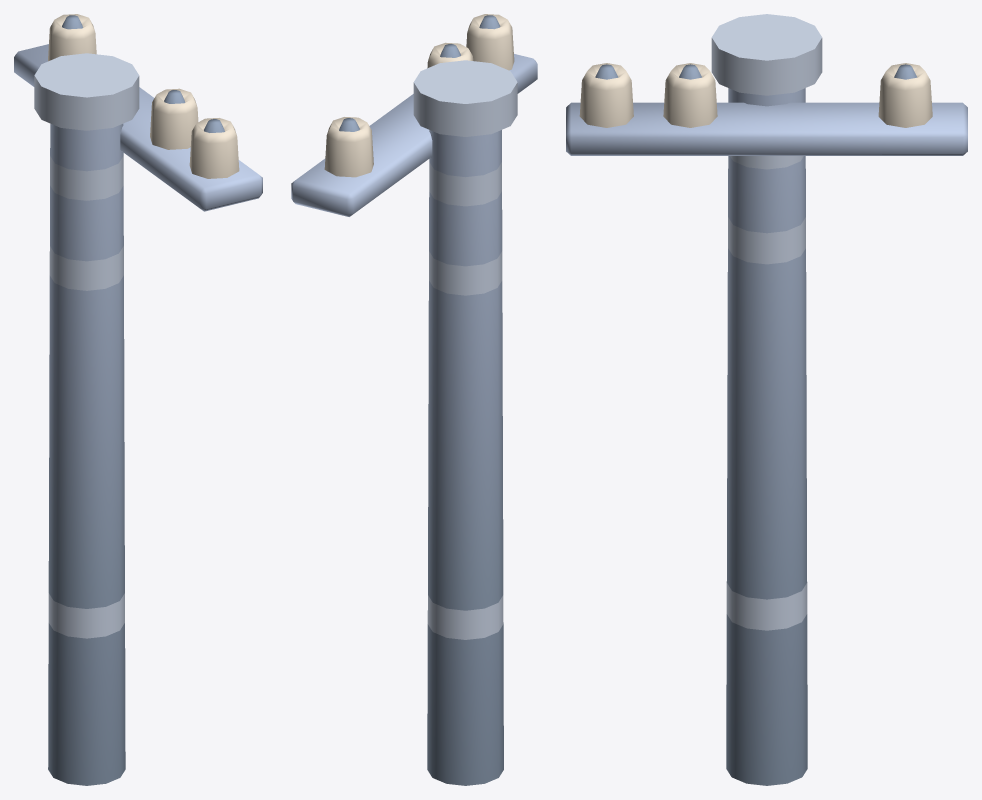
File: Energy_Pillar.fbx
3 renders of one model, left to right at view 1: azimuth 30°, elevation 25°; view 2: azimuth 150°, elevation 25°; view 3: azimuth 270°, elevation 25°, orthographic. The views are drawn at different scales.
Parts seen in each view (by area): view 1: Energy_pillar; view 2: Energy_pillar; view 3: Energy_pillar.
Boxes of the visible parts, left/top/right/bottom form: Energy_pillar: left=14, top=14, right=262, bottom=785; Energy_pillar: left=291, top=14, right=537, bottom=785; Energy_pillar: left=566, top=14, right=967, bottom=785.
Bounding box in the file's own units: 0.2025 × 1.05 × 0.5206.
